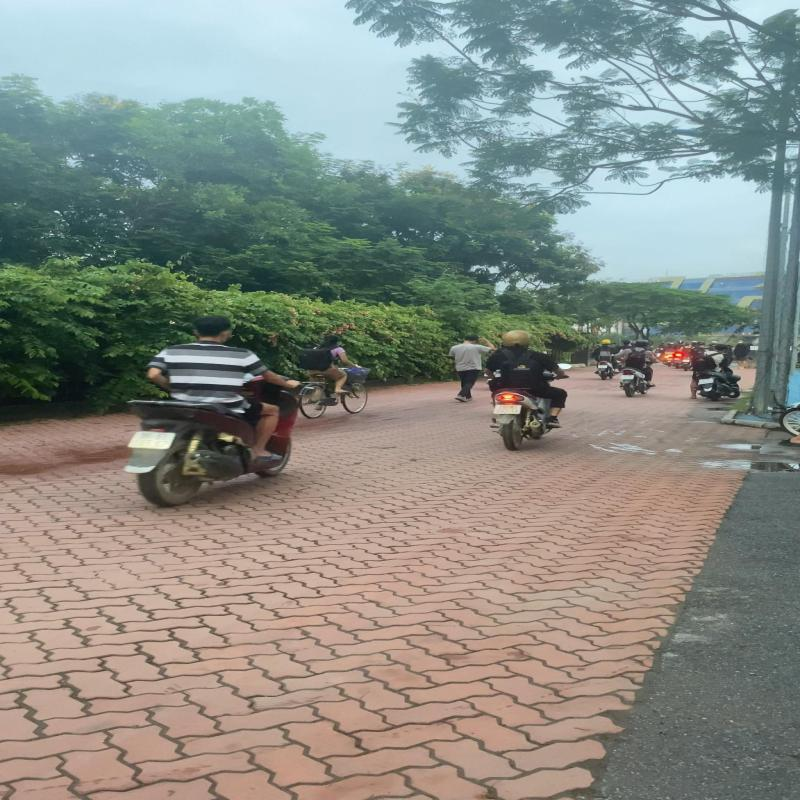licenseplate: (126, 431, 176, 449)
motorcyclist: (121, 315, 316, 508)
nohelmet: (192, 316, 233, 340)
